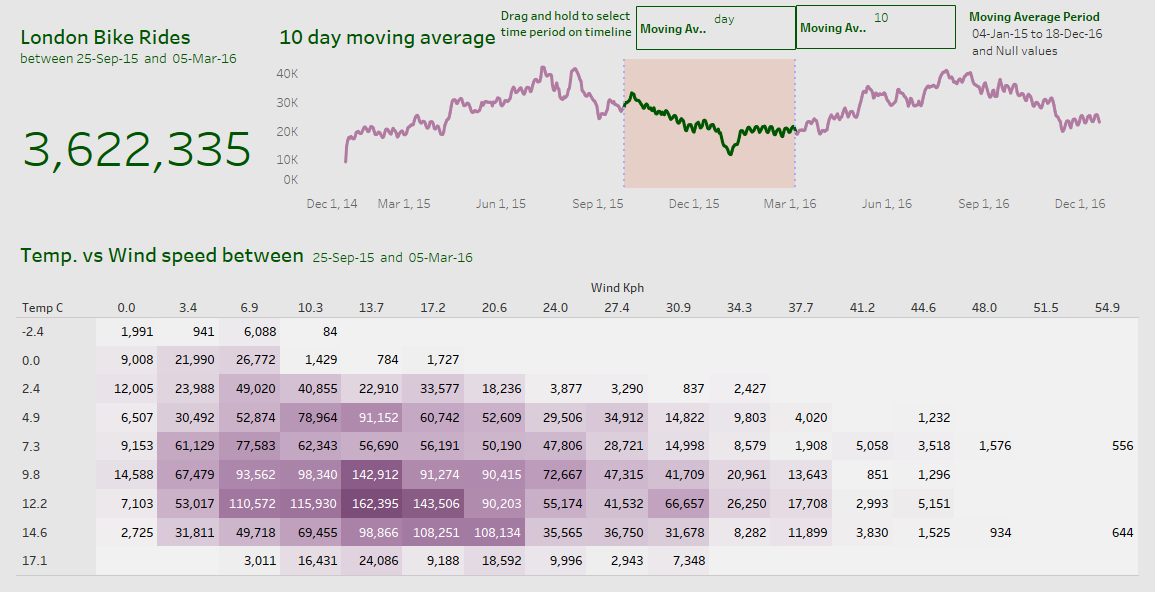

This screenshot's page, from the dashboard's own definition file:
{"tool":"tableau","page":{"name":"Dashboard 1","canvas":[1000,1000],"units":"permille","ordinal":0},"visuals":[{"type":"text","box":[431.2,1.7,148.9,77.7]},{"type":"parameter","param":"[Parameters].[Parameter 2]","box":[689.2,8.4,138.5,74.3]},{"type":"parameter","param":"[Parameters].[Parameter 1]","box":[550.6,10.1,138.5,74.3]},{"type":"filter","title":"MovingAVG","param":"[federated.0vthca80jh3emq19y91hn0c7ioaq].[none:Calculation_576742230161297408:qk","box":[839,11.8,145.5,99.7]},{"type":"worksheet","title":"TotalRides","mark":"Automatic","box":[6.9,13.5,224.2,368.2]},{"type":"worksheet","title":"MovingAVG","mark":"Automatic","rows":["Calculation1"],"cols":["Calculation_576742230161297408"],"box":[231.1,13.5,761.9,368.2]},{"type":"worksheet","title":"HeatMap","mark":"Square","rows":["temp real C (bin)"],"cols":["Wind Speed Kph (bin)"],"box":[6.9,381.7,986.1,604.8]}]}

Visuals, with their boxes on the dashboard's canvas, which has no fixed pixel size, in thousandths of its width and height (x1, y1, x2, y2). These are canvas units, not pixel positions in the 1155x592 screenshot, which may show the page scaled, cropped or inside an application window:
text: [431, 2, 580, 79]
parameter: [689, 8, 828, 83]
parameter: [551, 10, 689, 84]
"MovingAVG" filter: [839, 12, 984, 112]
"TotalRides" worksheet: [7, 14, 231, 382]
"MovingAVG" worksheet: [231, 14, 993, 382]
"HeatMap" worksheet (Square marks): [7, 382, 993, 986]
